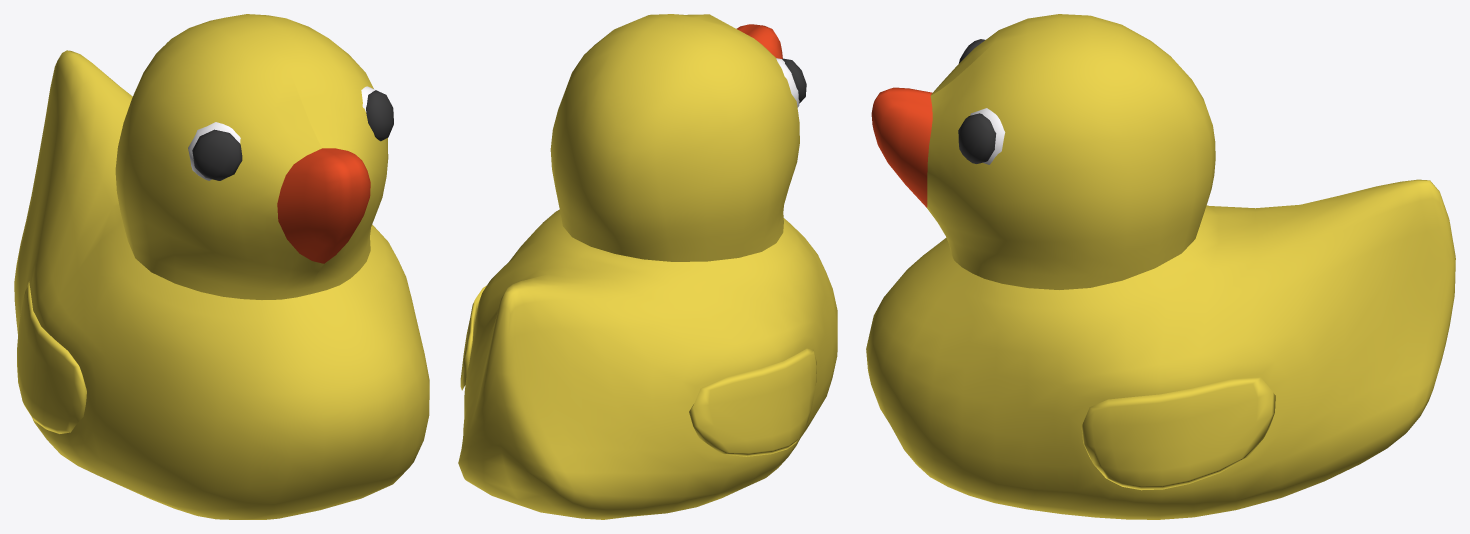
Rendered from duck2.fbx.
3 renders of one model, left to right at view 1: azimuth 30°, elevation 25°; view 2: azimuth 150°, elevation 25°; view 3: azimuth 270°, elevation 25°, orthographic. The views are drawn at different scales.
Parts seen in each view (by area): view 1: Body, Head, Peak, Wings, Eyes; view 2: Body, Head, Wings, Eyes, Peak, Wings.001; view 3: Body, Head, Wings.001, Peak, Eyes.
Boxes of the visible parts, x1,y1,x2,y2 form: Body: (14, 50, 429, 519); Head: (115, 14, 388, 299); Peak: (277, 148, 370, 263); Wings: (17, 281, 86, 433); Eyes: (188, 86, 393, 180); Body: (458, 209, 837, 519); Head: (550, 14, 799, 261); Wings: (689, 348, 816, 456); Eyes: (776, 58, 806, 107); Peak: (736, 24, 782, 58); Wings.001: (460, 285, 486, 390); Body: (866, 179, 1455, 519); Head: (927, 14, 1215, 289); Wings.001: (1081, 377, 1275, 490); Peak: (871, 87, 932, 207); Eyes: (958, 39, 1005, 164).
Bounding box in the file's own units: 301 × 383 × 452.
